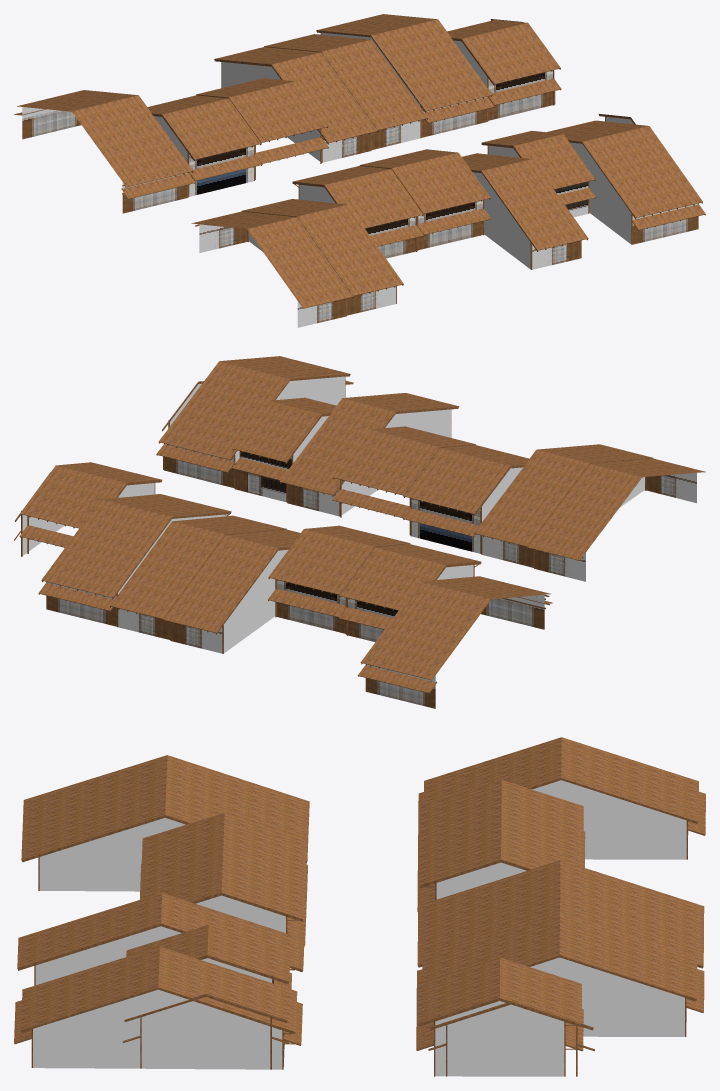
Rendered from station.glb.
The picture shows the model from 3 angles, top to bottom: view 1: azimuth 30°, elevation 25°; view 2: azimuth 150°, elevation 25°; view 3: azimuth 270°, elevation 25°; orthographic projection. The views are drawn at different scales.
Visible parts, largest first — view 1: SketchUp.009, SketchUp.013, SketchUp.001, SketchUp.510, SketchUp.500, SketchUp.497, SketchUp.516, SketchUp.722, SketchUp.684, group_19, group_24, group_8 (+15 smaller); view 2: SketchUp.009, SketchUp.013, SketchUp.001, SketchUp.510, SketchUp.500, SketchUp.497, SketchUp.516, SketchUp.014, group_27, group_18, group_21, SketchUp.722 (+15 smaller); view 3: SketchUp.009, SketchUp.013, SketchUp.001, SketchUp.702, SketchUp.510, SketchUp.500, SketchUp.463, SketchUp.497, SketchUp.640, SketchUp.048, SketchUp.560, SketchUp.516 (+5 smaller).
Part boxes in pixels (x1,y1,x2,y2): SketchUp.009: (214,14,561,144); SketchUp.013: (14,78,328,197); SketchUp.001: (191,199,403,316); SketchUp.510: (292,149,490,251); SketchUp.500: (487,116,705,244); SketchUp.497: (462,153,588,269); SketchUp.516: (481,131,595,189); SketchUp.722: (570,142,631,243); SketchUp.684: (473,172,530,269); group_19: (189,146,253,196); group_24: (418,200,482,249); group_8: (488,70,552,120); SketchUp.009: (14,462,300,653); SketchUp.013: (268,525,550,693); SketchUp.001: (474,444,705,560); SketchUp.510: (332,426,528,554); SketchUp.500: (158,356,353,503); SketchUp.497: (279,393,459,496); SketchUp.516: (232,397,336,463); SketchUp.014: (224,549,288,653); group_27: (411,498,480,553); group_18: (277,580,345,633); group_21: (481,596,544,629); SketchUp.722: (276,376,345,405); SketchUp.009: (416,860,704,1076); SketchUp.013: (417,737,705,911); SketchUp.001: (21,755,309,890); SketchUp.702: (33,989,282,1069); SketchUp.510: (140,812,307,945); SketchUp.500: (14,946,297,1069); SketchUp.463: (435,1001,564,1076); SketchUp.497: (17,893,304,985); SketchUp.640: (532,780,686,859); SketchUp.048: (530,957,684,1036); SketchUp.560: (39,818,185,891); SketchUp.516: (126,924,290,984).
Bounding box in the file's own units: 47.79 × 7.5 × 53.04.
16 materials, 14 textured.
